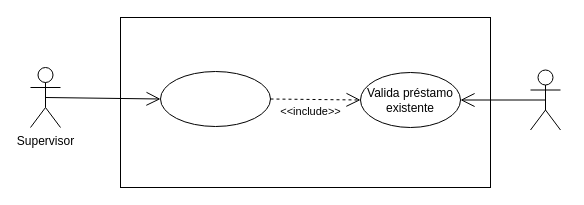
This 584x205 diagram has some shape labels left out. Here are the shapes that lost their labels. From the top down, the centre of each, then its label:
At [215,98]: "Aceptar o Rechazar préstamo".
At [545,99]: "Sistema".
